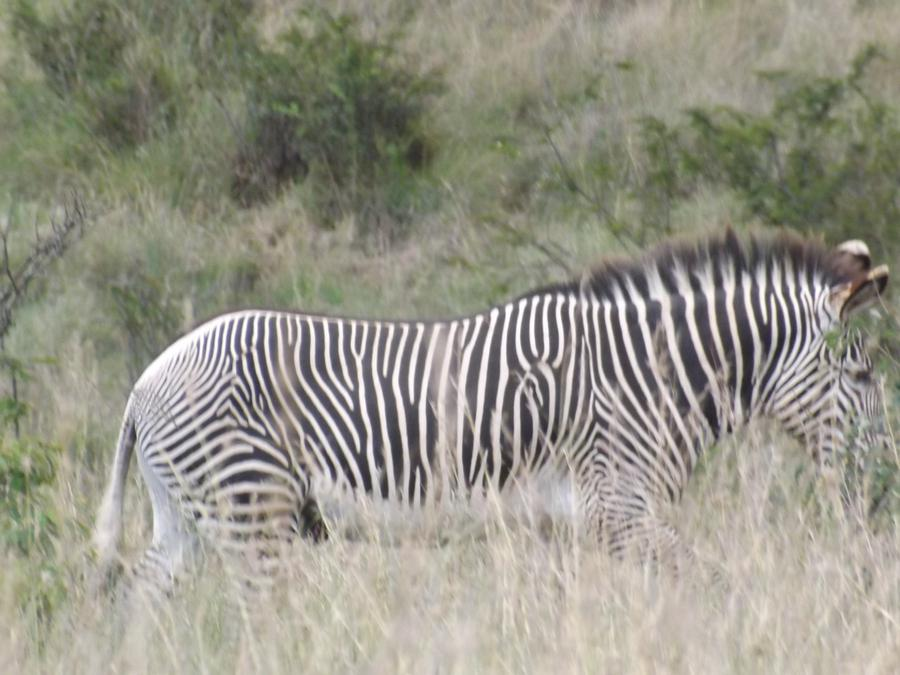zebra_grevys: (119, 284, 691, 512)
